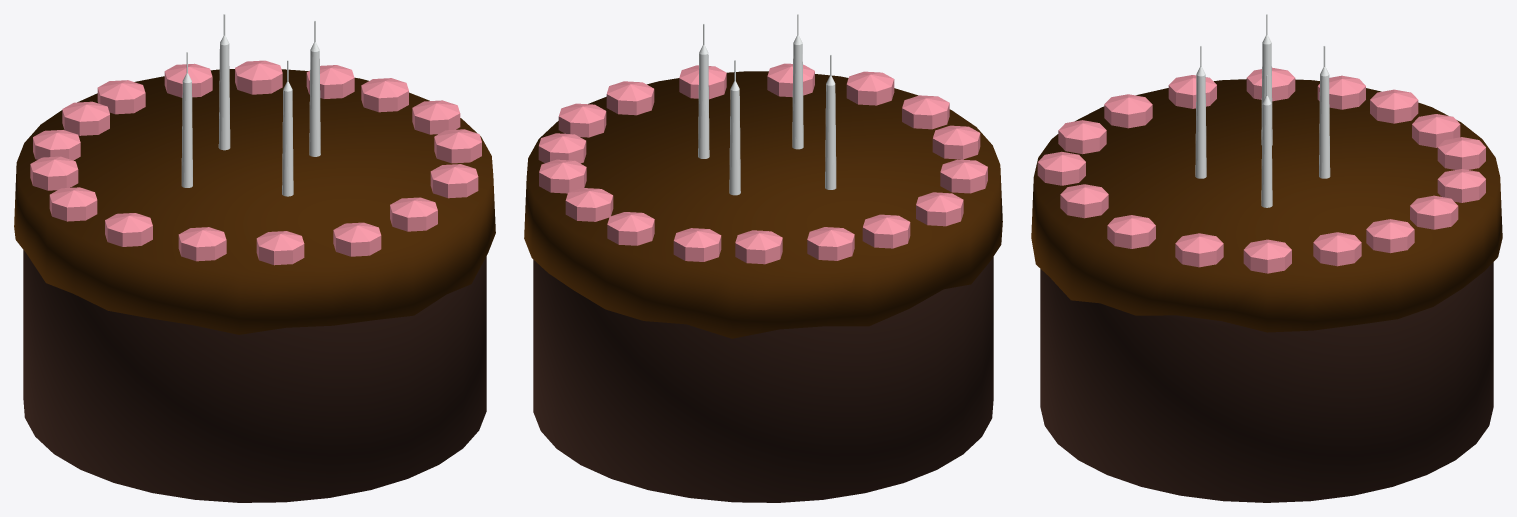
The model's file is Torte.fbx.
3 renders of one model, left to right at view 1: azimuth 30°, elevation 25°; view 2: azimuth 150°, elevation 25°; view 3: azimuth 270°, elevation 25°, orthographic. The views are drawn at different scales.
Visible parts, largest first — view 1: Topping, Torte, Topping2, Kerzen; view 2: Topping, Torte, Topping2, Kerzen; view 3: Torte, Topping, Topping2, Kerzen.
Part boxes in pixels (bbox=[...]): Topping: bbox=[14, 69, 495, 334]; Torte: bbox=[23, 250, 486, 502]; Topping2: bbox=[30, 60, 481, 265]; Kerzen: bbox=[181, 14, 320, 196]; Topping: bbox=[524, 71, 1002, 338]; Torte: bbox=[533, 257, 993, 502]; Topping2: bbox=[538, 63, 987, 264]; Kerzen: bbox=[698, 14, 836, 195]; Torte: bbox=[1040, 262, 1493, 502]; Topping: bbox=[1031, 79, 1502, 332]; Topping2: bbox=[1037, 67, 1485, 273]; Kerzen: bbox=[1195, 14, 1330, 207].
Size of the model in its own units: 104 by 87.79 by 104.
